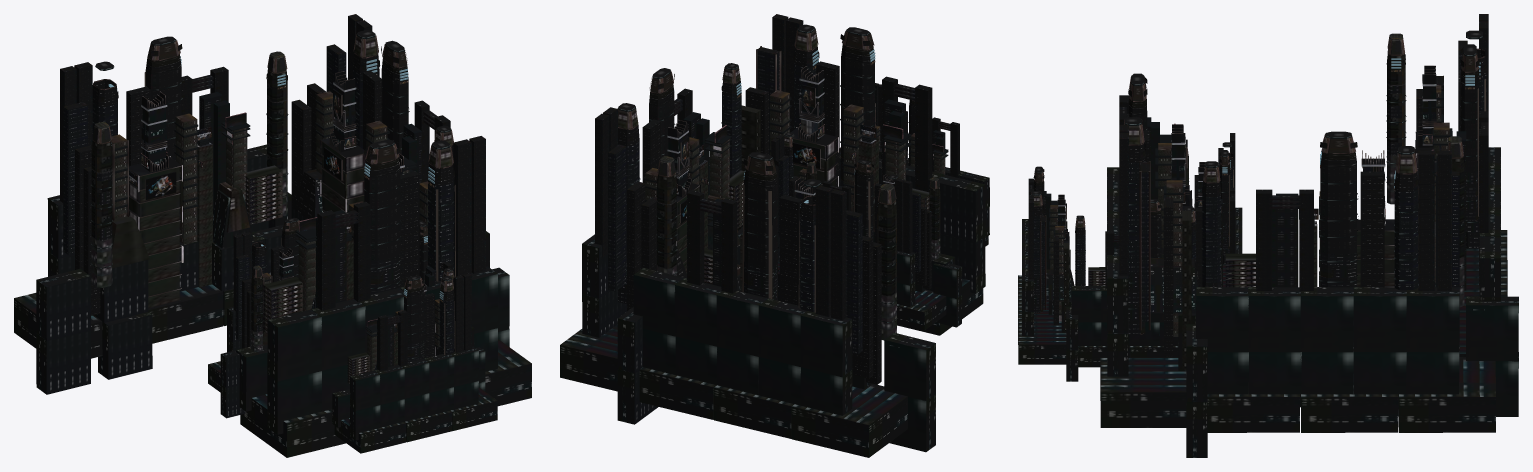
The model's file is City.glb.
3 renders of one model, left to right at view 1: azimuth 30°, elevation 25°; view 2: azimuth 150°, elevation 25°; view 3: azimuth 270°, elevation 25°, orthographic. The views are drawn at different scales.
Visible parts, largest first — view 1: model_1; view 2: model_1; view 3: model_1.
Part boxes in pixels (<box>): model_1: <box>14,14,531,457</box>; model_1: <box>560,14,989,457</box>; model_1: <box>1018,14,1518,457</box>.
Bounding box in the file's own units: 524 × 408 × 610.
1 material, 1 textured.
